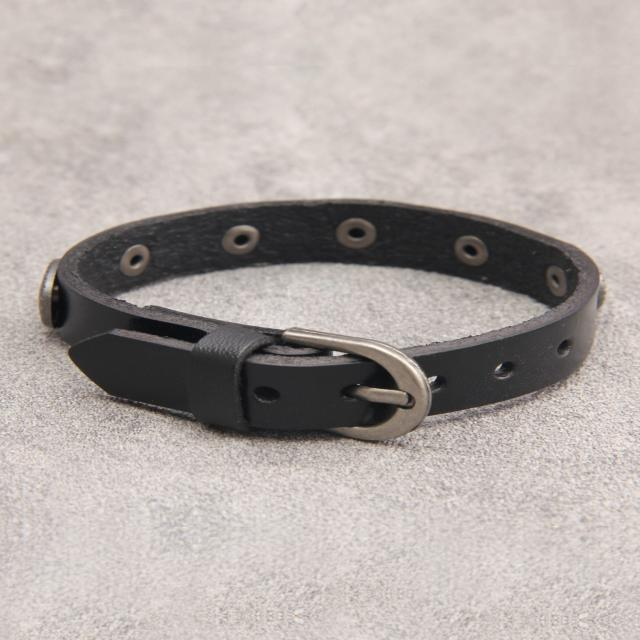bracelet: (0, 138, 640, 491)
